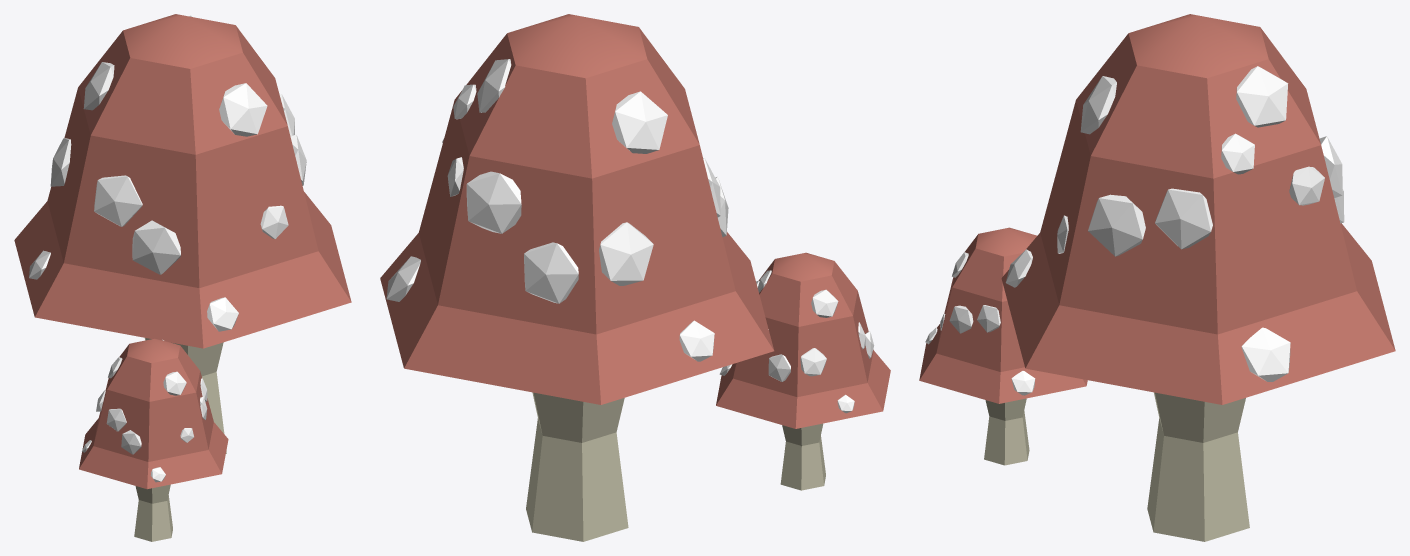
Rendered from Toadstool Harvested.fbx.
The picture shows the model from 3 angles, left to right: view 1: azimuth 30°, elevation 25°; view 2: azimuth 150°, elevation 25°; view 3: azimuth 270°, elevation 25°; orthographic projection. The views are drawn at different scales.
Visible parts, largest first — view 1: mushroom5; view 2: mushroom5; view 3: mushroom5.
Part boxes in pixels (x1,y1,x2,y2): mushroom5: (14, 14, 351, 541); mushroom5: (380, 14, 890, 541); mushroom5: (919, 14, 1395, 541).
Bounding box in the file's own units: 0.2186 × 0.2632 × 0.2261.
